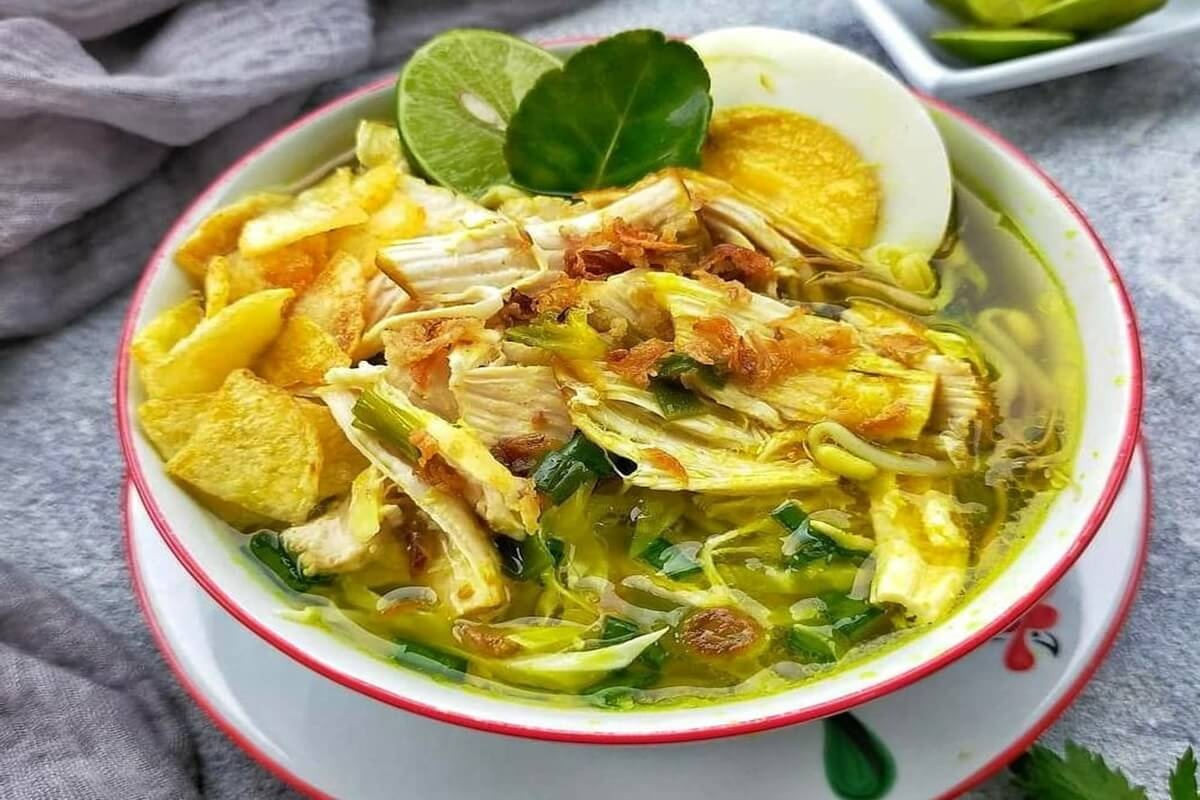soto: (144, 39, 1127, 693)
